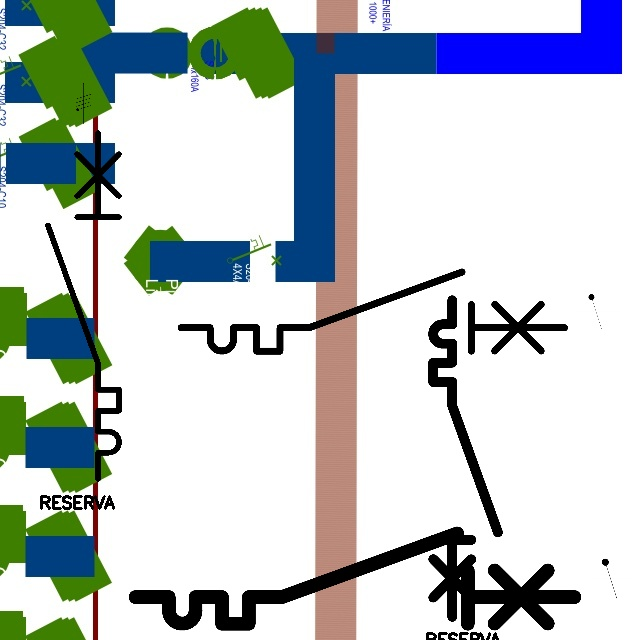interruptor_termomagnetico: (124, 522, 585, 635), (171, 262, 575, 361), (39, 124, 128, 487), (425, 292, 506, 624)
